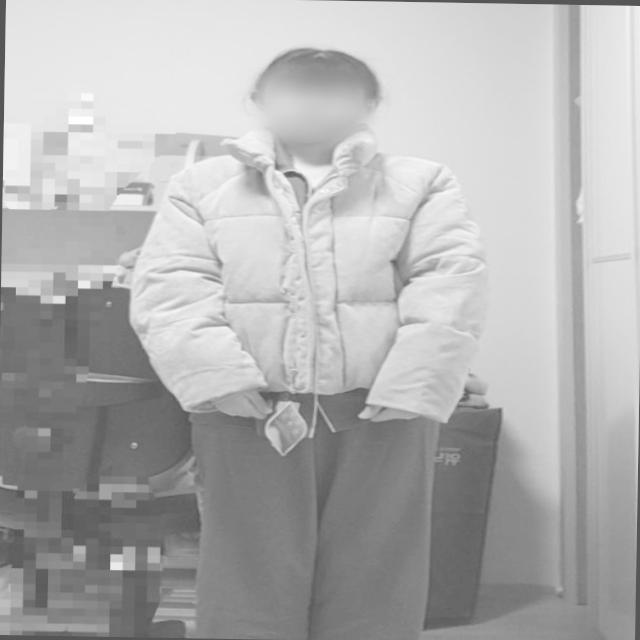padding: (122, 125, 497, 418)
trainingpants: (183, 384, 439, 640)
